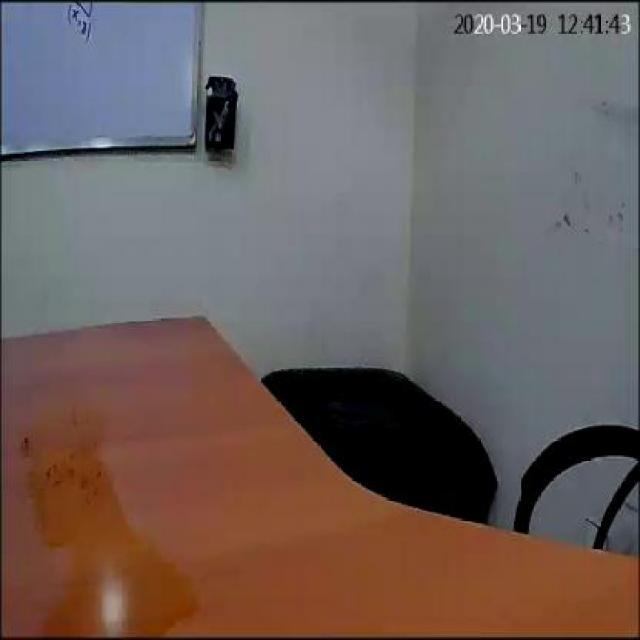spill: (21, 404, 204, 632)
